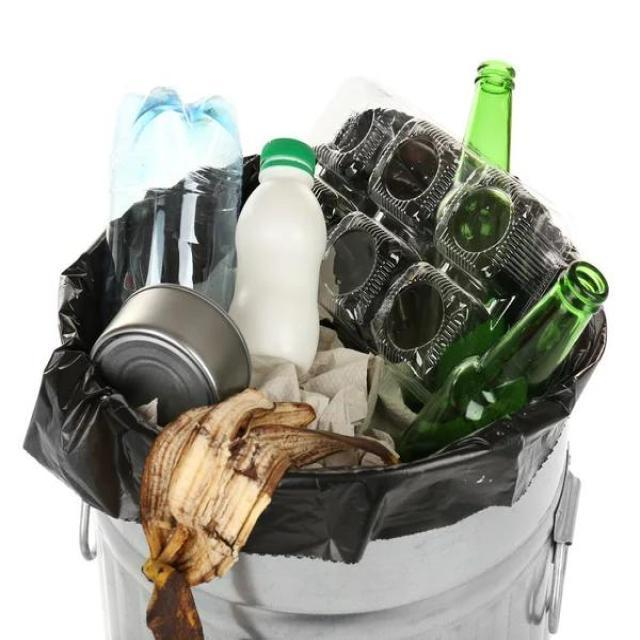Disposable: (314, 62, 608, 459)
Garbage: (25, 80, 605, 562), (140, 389, 399, 639), (229, 139, 326, 372), (464, 60, 515, 171)
Glass_bottle: (400, 261, 608, 459), (464, 60, 515, 171)
Metal: (90, 284, 251, 425)
Plastic_bottle: (108, 88, 242, 310), (108, 88, 242, 308), (229, 139, 326, 372), (371, 262, 488, 377)
contaminated_waste: (401, 262, 609, 459), (230, 139, 326, 372)
